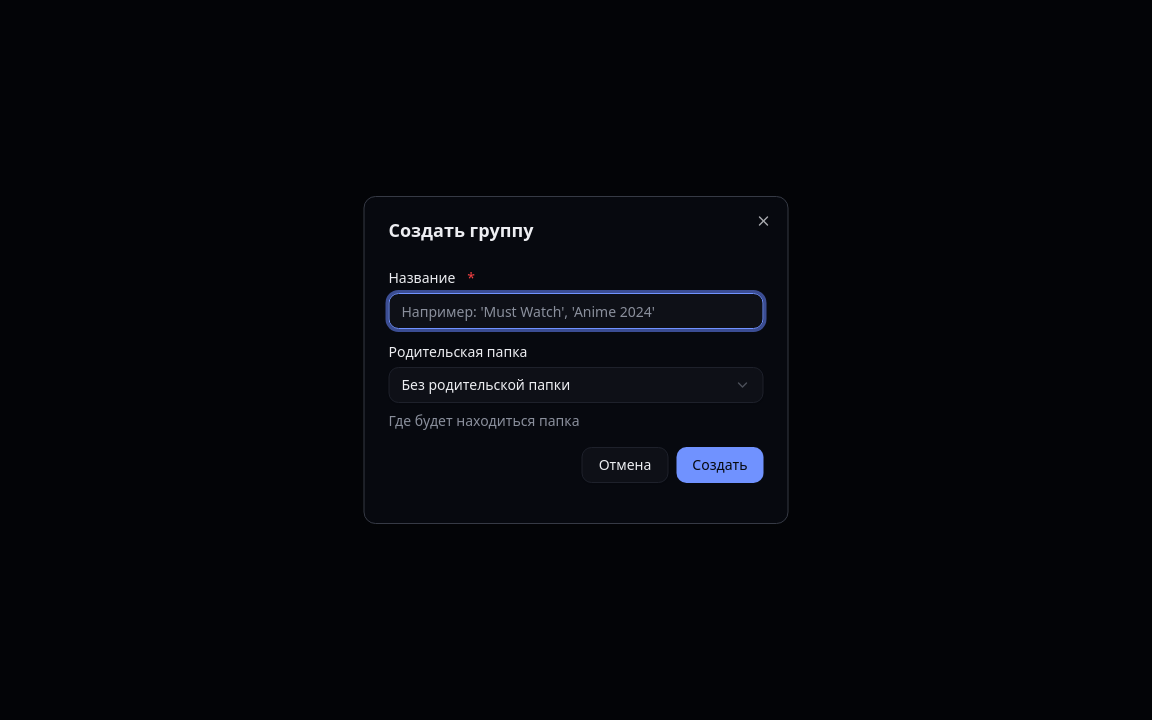
Scenario: CreateGroupModal › should show server error message on failure
The image size is (1152, 720).
In the field labelled "Название *": (576, 311) left=388, top=293, right=764, bottom=329, type "Дубликат"
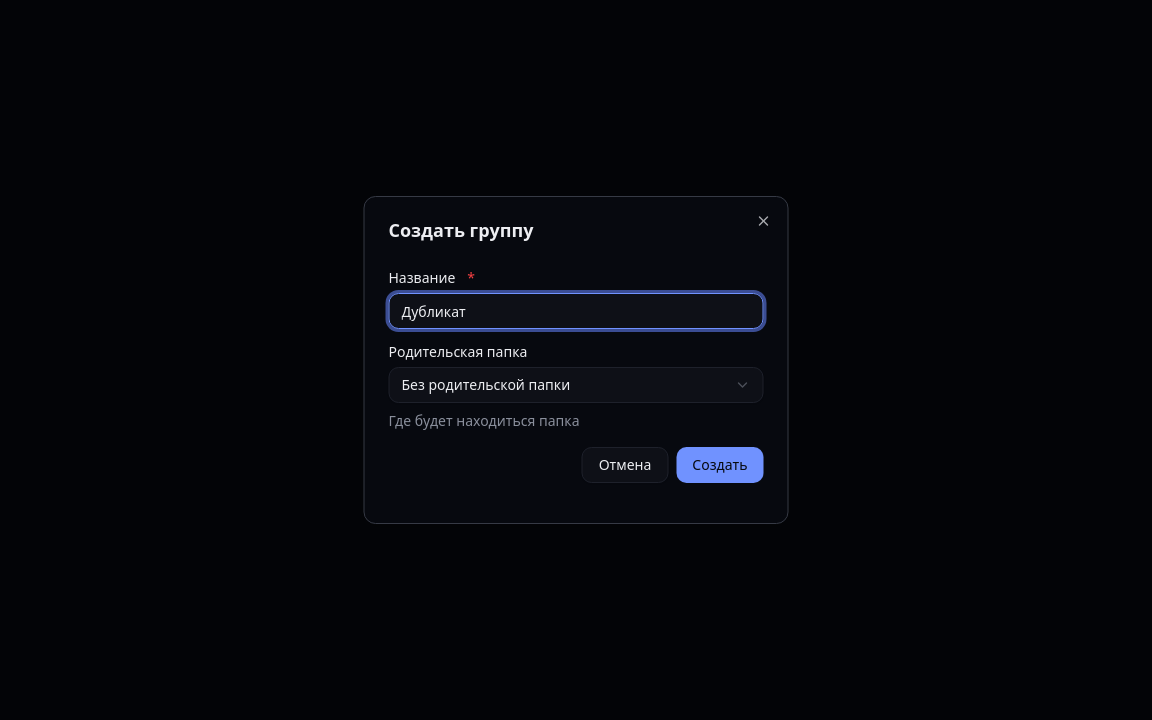
Click the button "Создать": (720, 465) left=676, top=447, right=764, bottom=483
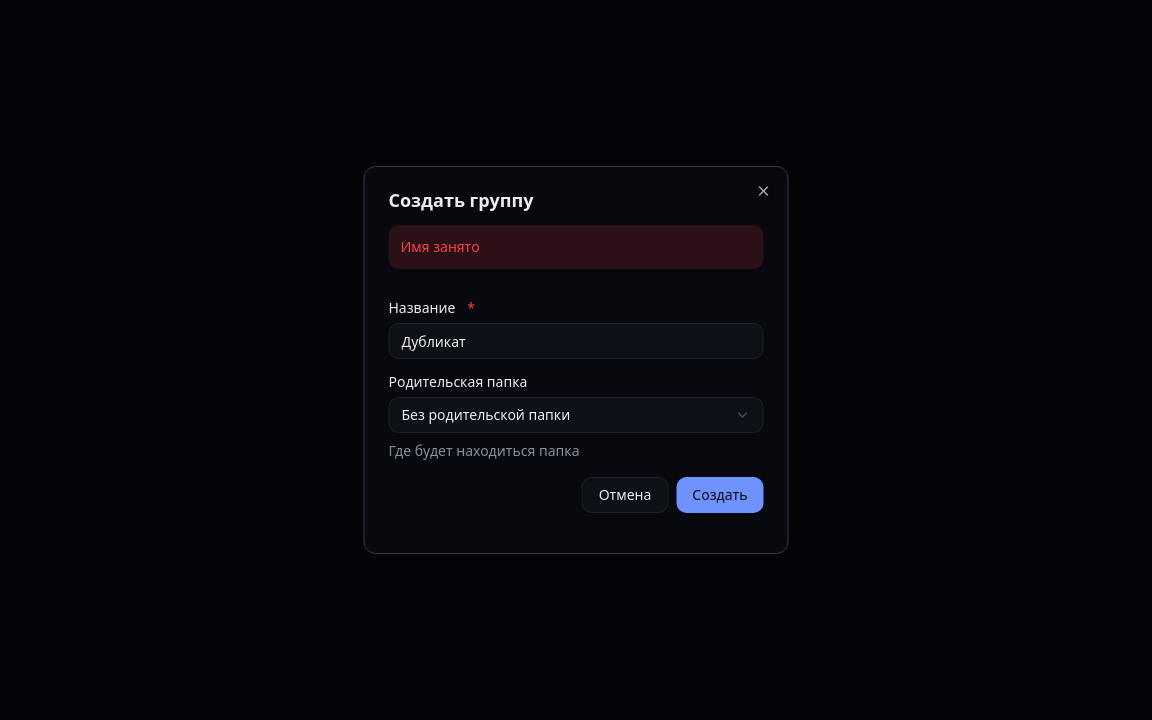
Result: the message reads "Имя занято" at left=400, top=237, right=480, bottom=256
